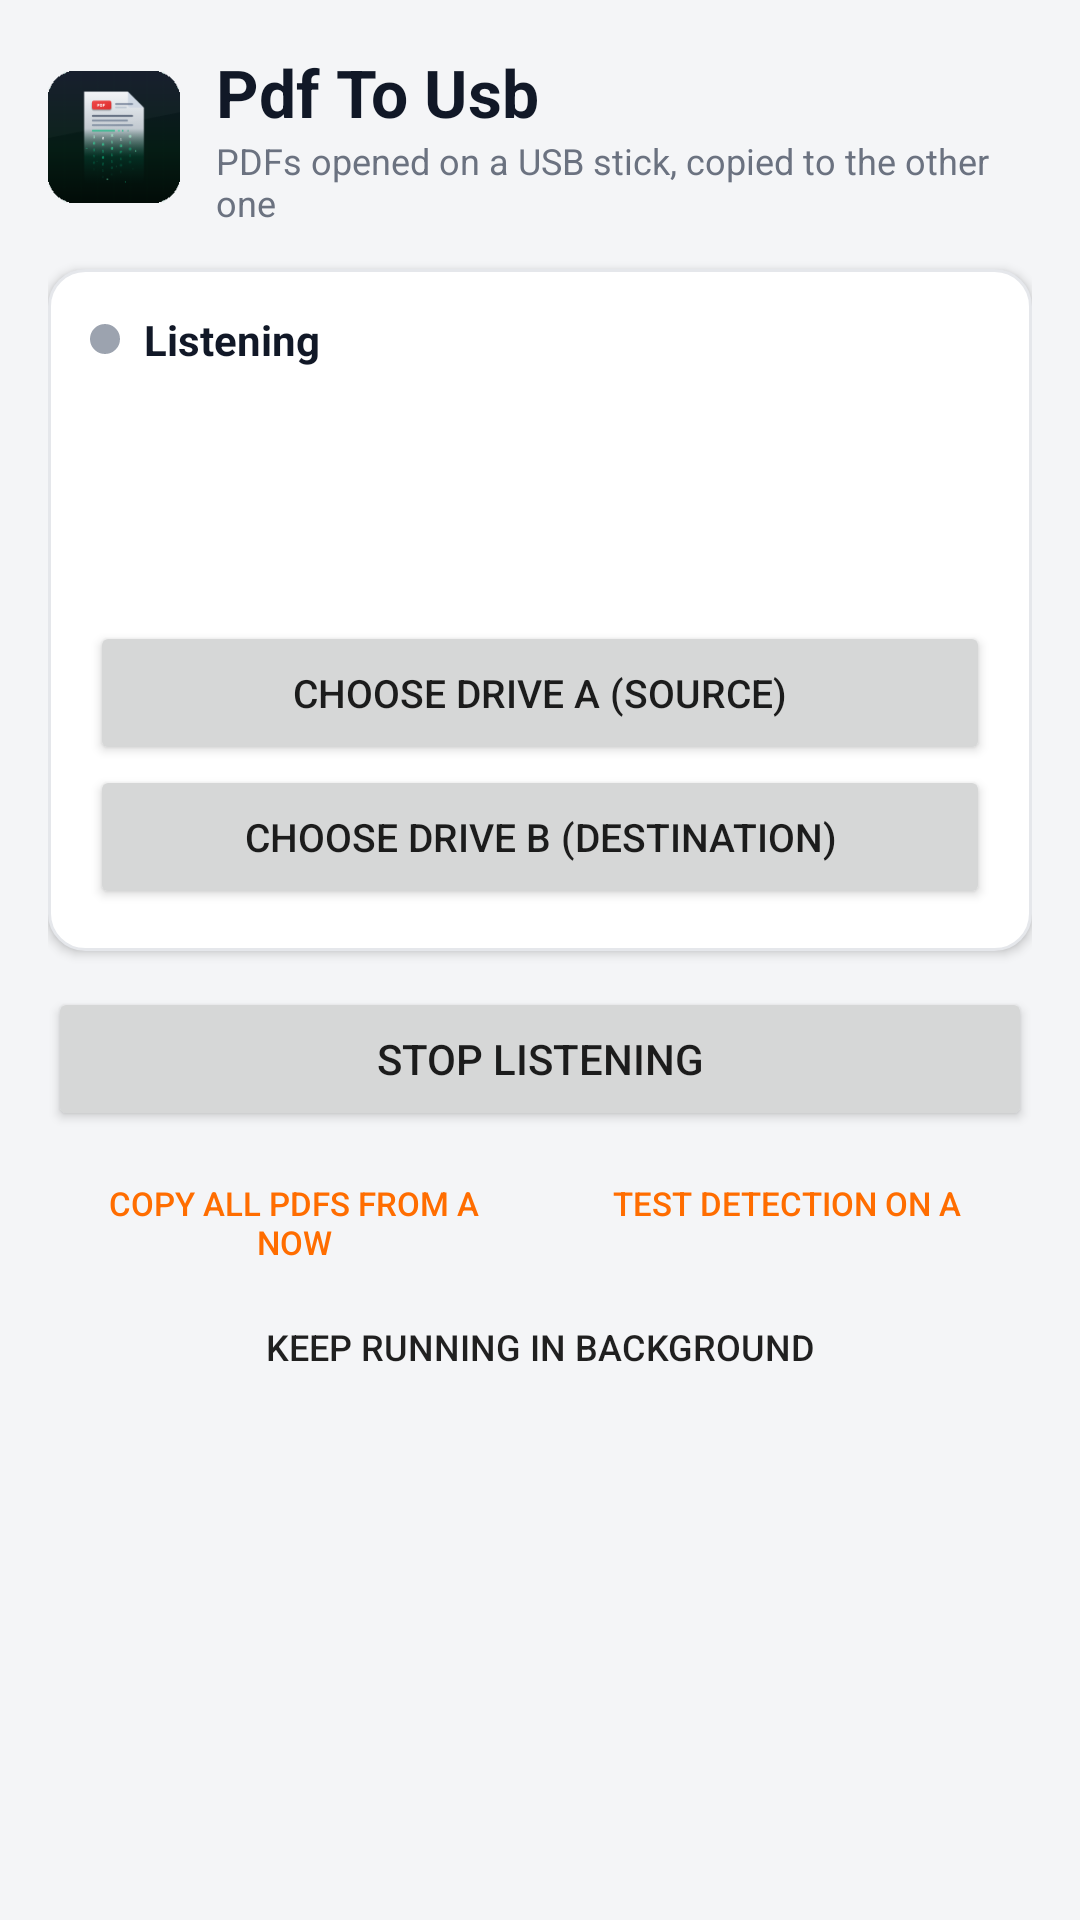

Icons on this 1080px x 1920px Android screen, each with the point to tap as point (x, y):
dot off: point (105, 339)
